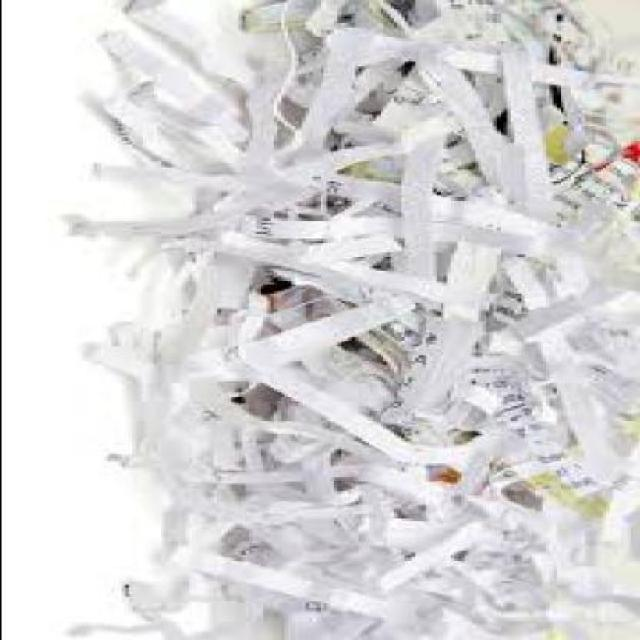PAPER: (64, 2, 639, 640)
